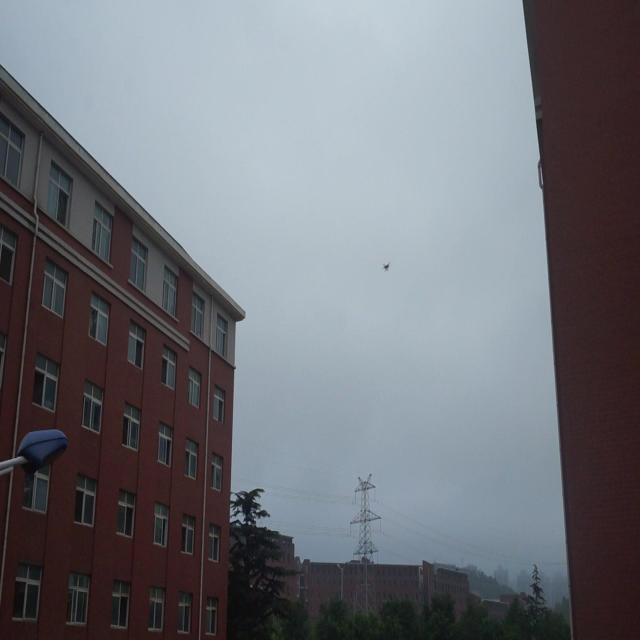drone: (382, 258, 391, 273)
